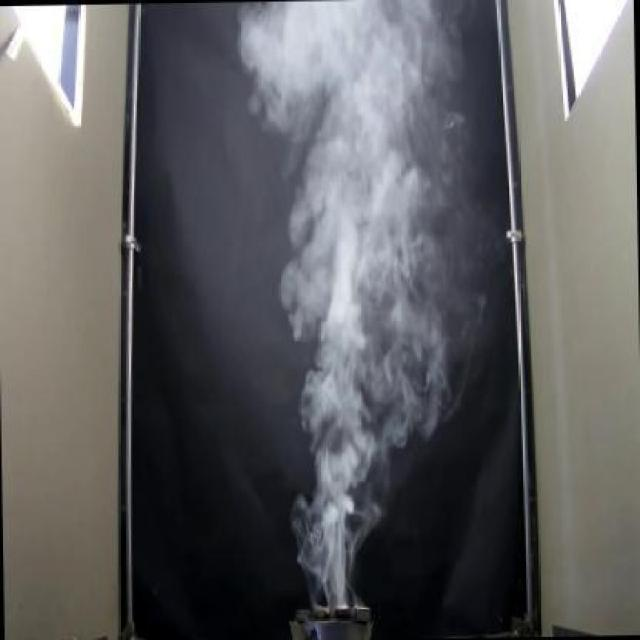smoke: (235, 0, 457, 600)
